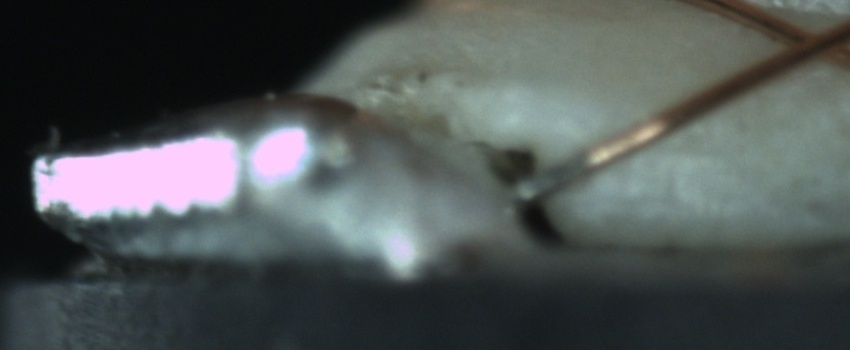CL: (765, 8, 849, 67)
DL: (619, 126, 737, 176)
TS: (517, 152, 589, 202)
